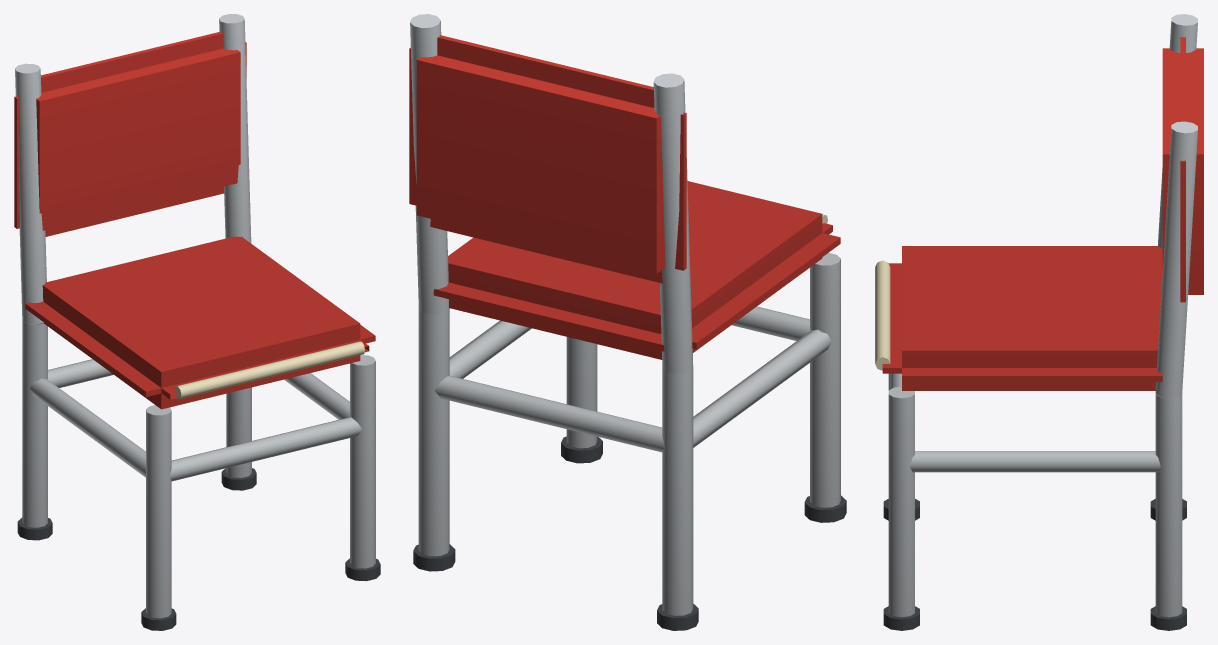
The model's file is SM_Chair_Diner_01.glb.
3 renders of one model, left to right at view 1: azimuth 30°, elevation 25°; view 2: azimuth 150°, elevation 25°; view 3: azimuth 270°, elevation 25°, orthographic. The views are drawn at different scales.
Visible parts, largest first — view 1: SM_Chair_Diner_01; view 2: SM_Chair_Diner_01; view 3: SM_Chair_Diner_01.
Boxes of the visible parts, x1,y1,x2,y2 form: SM_Chair_Diner_01: (14, 14, 380, 630); SM_Chair_Diner_01: (409, 14, 846, 630); SM_Chair_Diner_01: (875, 14, 1203, 630).
Bounding box in the file's own units: 0.46 × 0.8611 × 0.517.
1 material, 1 textured.
